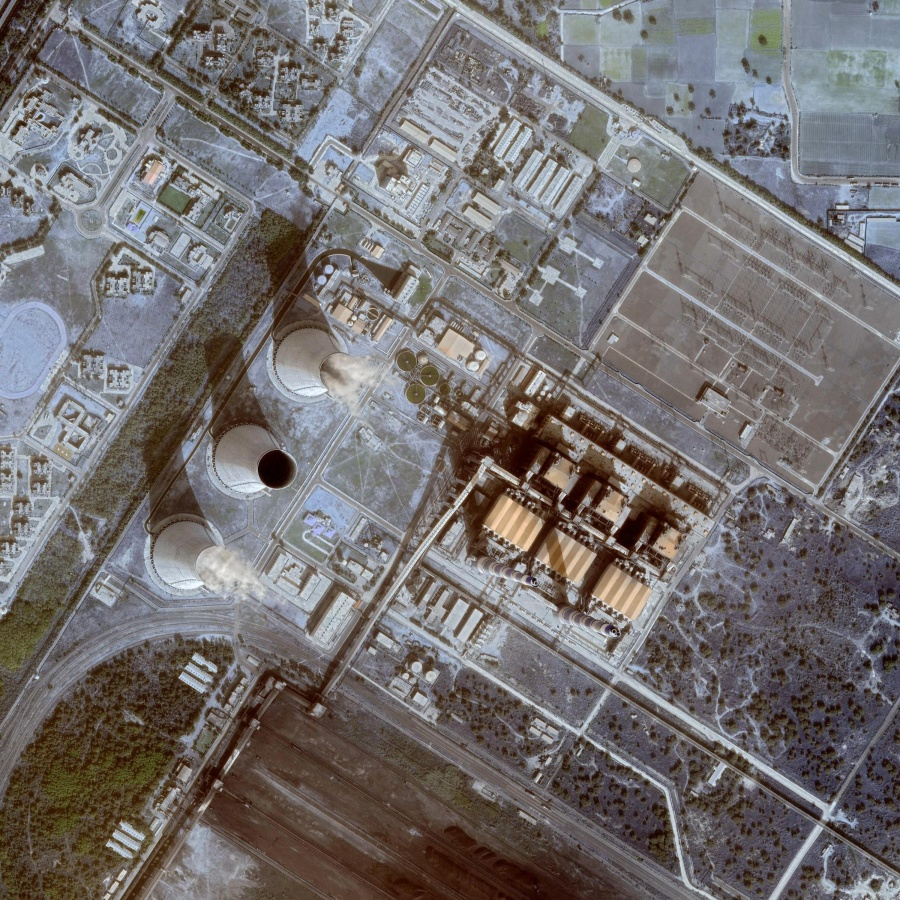PowerPlant: (138, 208, 688, 645)
